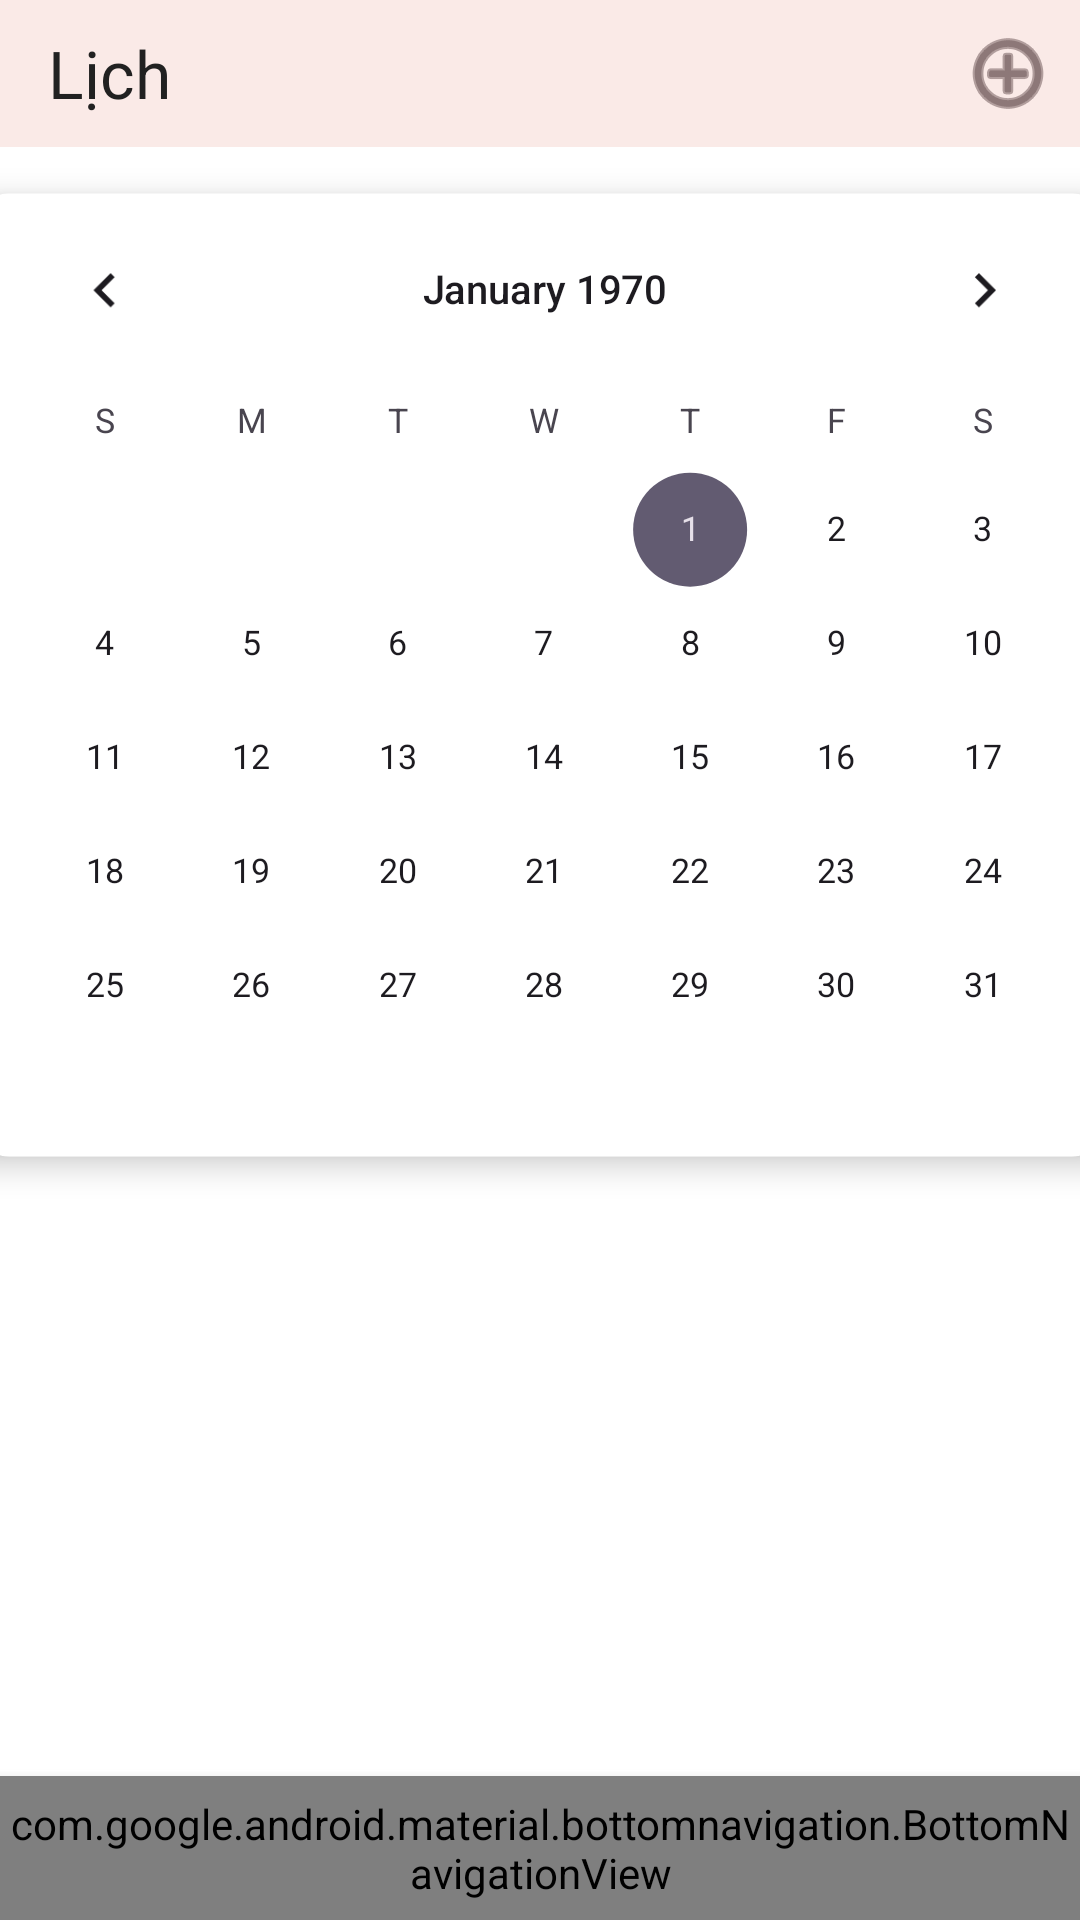

Locate icon controls on the screen. Image size 1080×1920, boxes as box(x1, y1, x2, y2).
add: box(972, 38, 1044, 109)
